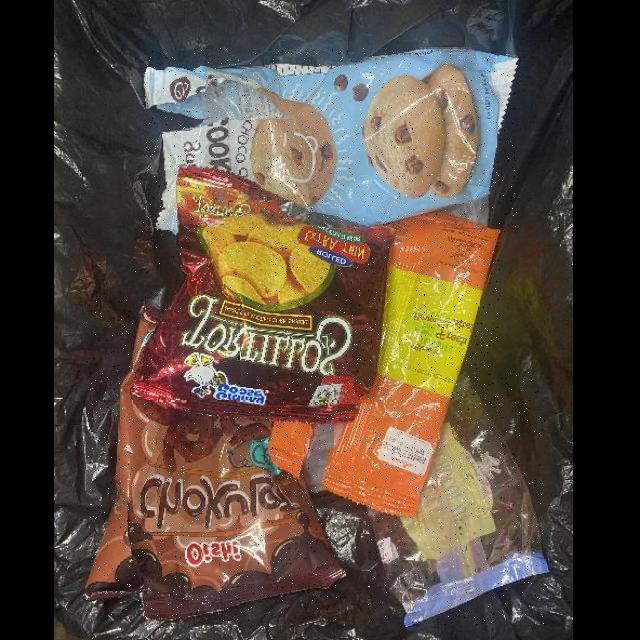wrapper: (86, 300, 344, 621), (268, 210, 500, 519), (144, 48, 517, 232), (134, 164, 394, 424), (367, 371, 545, 625)
